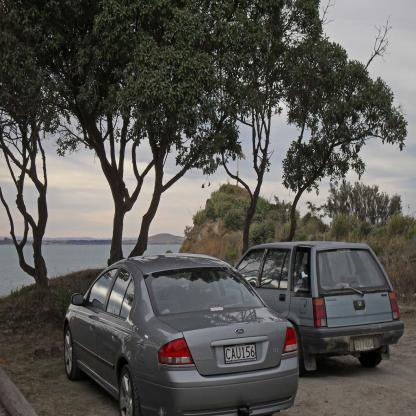Car: (60, 256, 311, 414), (232, 242, 404, 369)
